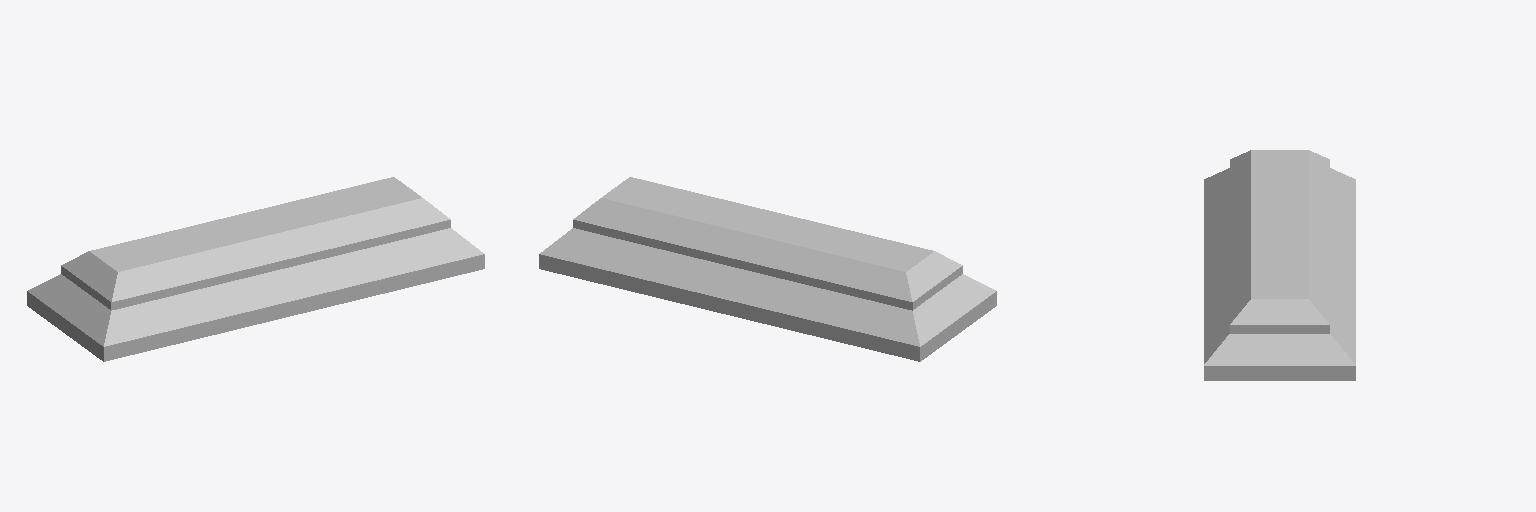
File: entryRoof.obj
3 views of the same model, side by side, from view 1: azimuth 30°, elevation 25°; view 2: azimuth 150°, elevation 25°; view 3: azimuth 270°, elevation 25° (orthographic).
Parts seen in each view (by area): view 1: entryRoof_Cube.025; view 2: entryRoof_Cube.025; view 3: entryRoof_Cube.025.
Part boxes in pixels (x1,y1,x2,y2): entryRoof_Cube.025: (27, 177, 484, 361); entryRoof_Cube.025: (539, 177, 996, 361); entryRoof_Cube.025: (1204, 150, 1355, 380).
Bounding box in the file's own units: 55.26 × 8.74 × 19.2.